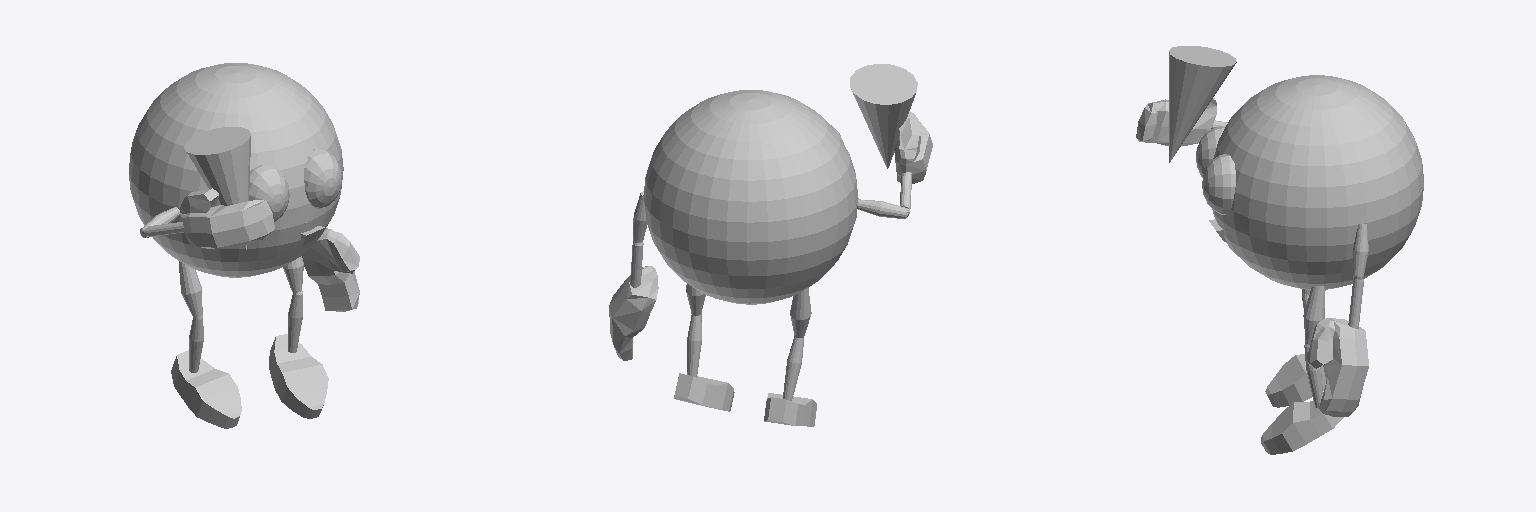
The model's file is stepLeft_000043.obj.
3 views of the same model, side by side, from view 1: azimuth 30°, elevation 25°; view 2: azimuth 150°, elevation 25°; view 3: azimuth 270°, elevation 25° (orthographic).
Visible parts, largest first — view 1: Rusko_Sphere; view 2: Rusko_Sphere; view 3: Rusko_Sphere.
Part boxes in pixels (bbox=[...]): Rusko_Sphere: bbox=[129, 63, 359, 428]; Rusko_Sphere: bbox=[609, 64, 932, 426]; Rusko_Sphere: bbox=[1136, 46, 1423, 454].
Size of the model in its own units: 5.5 by 6.98 by 5.35.